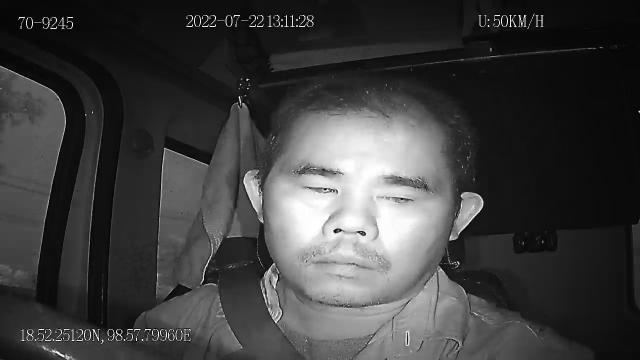SafeDriving: (290, 169, 351, 201), (369, 179, 430, 209)
Seatbelt: (216, 264, 306, 360)
